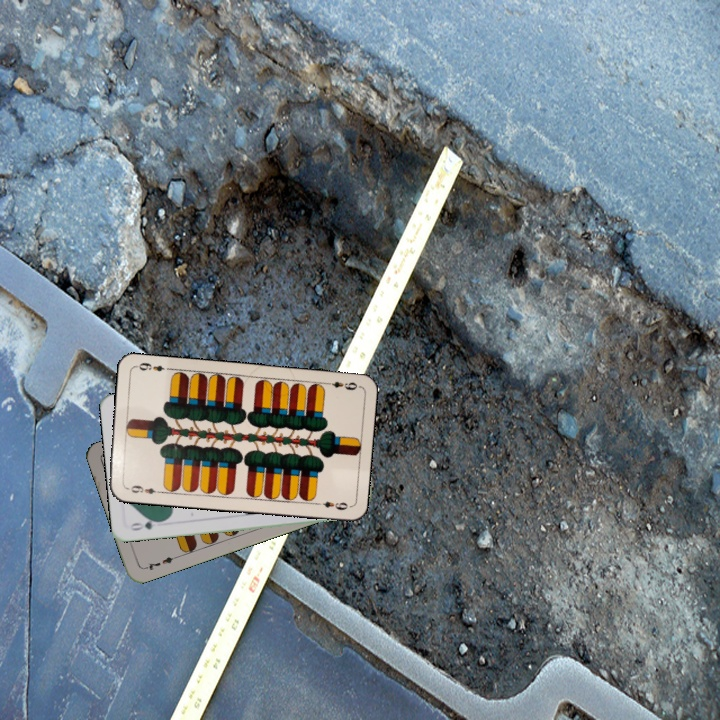E7: (140, 552, 180, 573)
E9: (122, 481, 163, 497), (321, 378, 361, 393)
GO: (126, 515, 166, 533)
